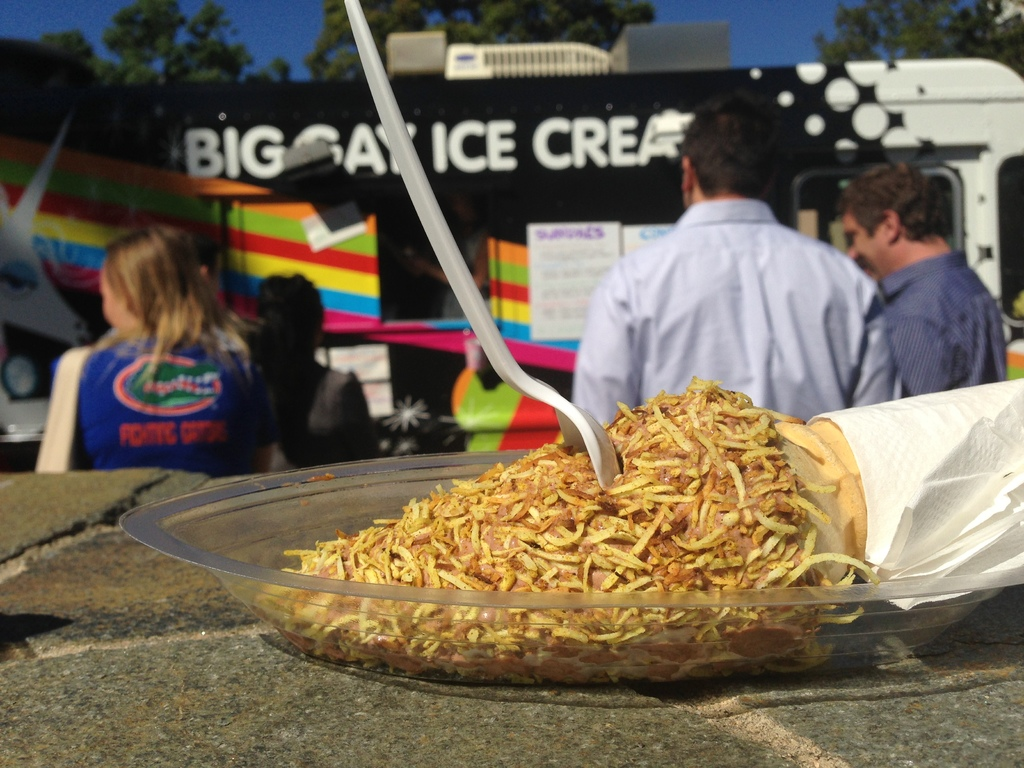French fries: (575, 390, 836, 567)
